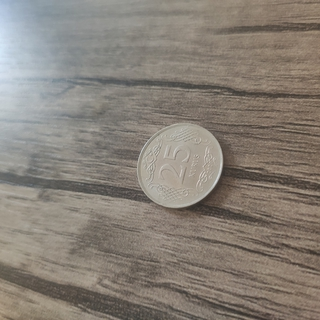25KURUS: (135, 120, 224, 210)
